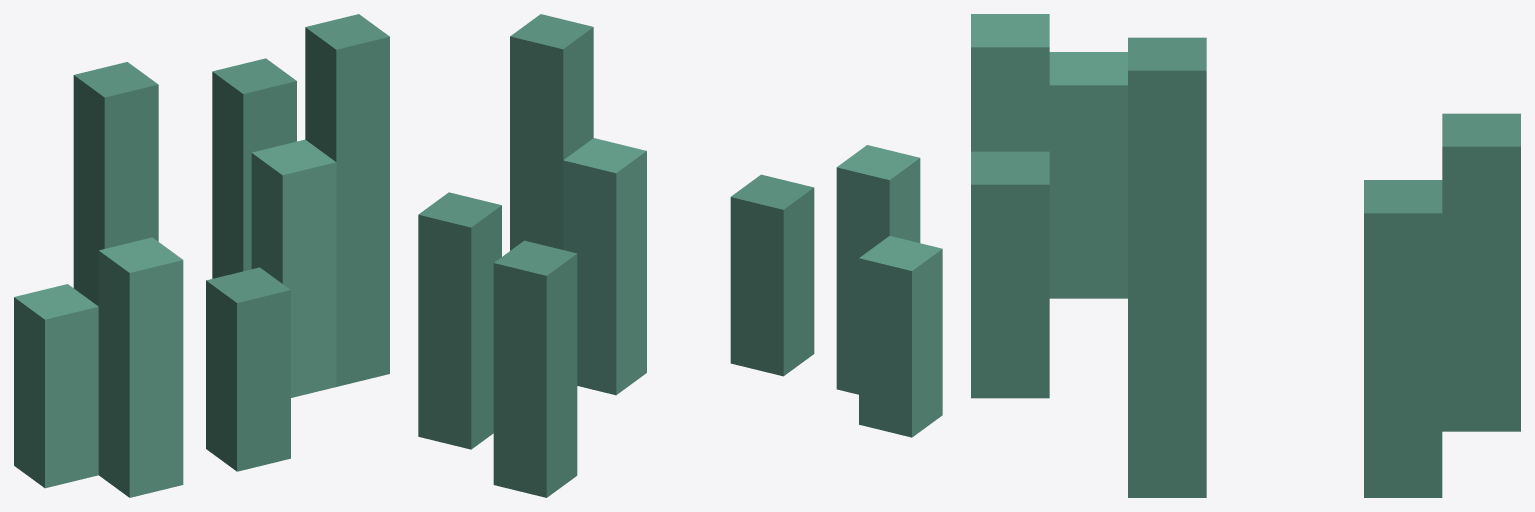
File: posidonia_01.glb
3 views of the same model, side by side, from view 1: azimuth 30°, elevation 25°; view 2: azimuth 150°, elevation 25°; view 3: azimuth 270°, elevation 25° (orthographic). The views are drawn at different scales.
Visible parts, largest first — view 1: posidonia_01; view 2: posidonia_01; view 3: posidonia_01.
Boxes of the visible parts, x1,y1,x2,y2 form: posidonia_01: (14,14,389,497); posidonia_01: (418,14,942,497); posidonia_01: (971,14,1520,497).
Size of the model in its own units: 0.7 by 0.6 by 0.7.
